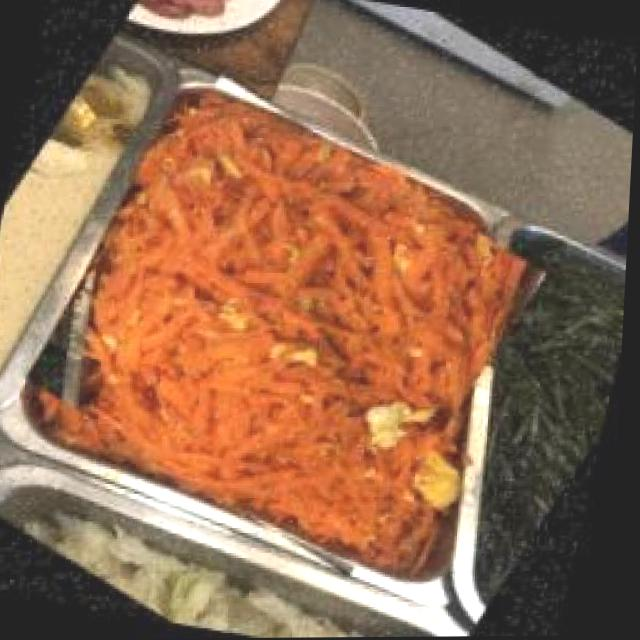carrot_eggs: (0, 52, 586, 603)
chinese_sausage: (131, 0, 268, 54)
